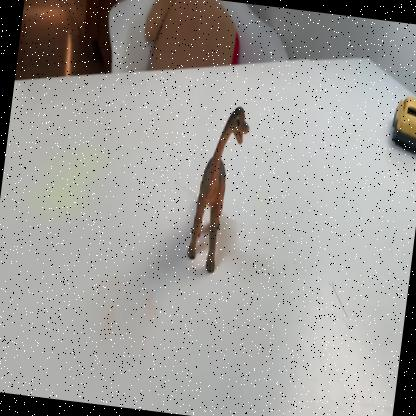brontosaurus: (184, 104, 252, 277)
